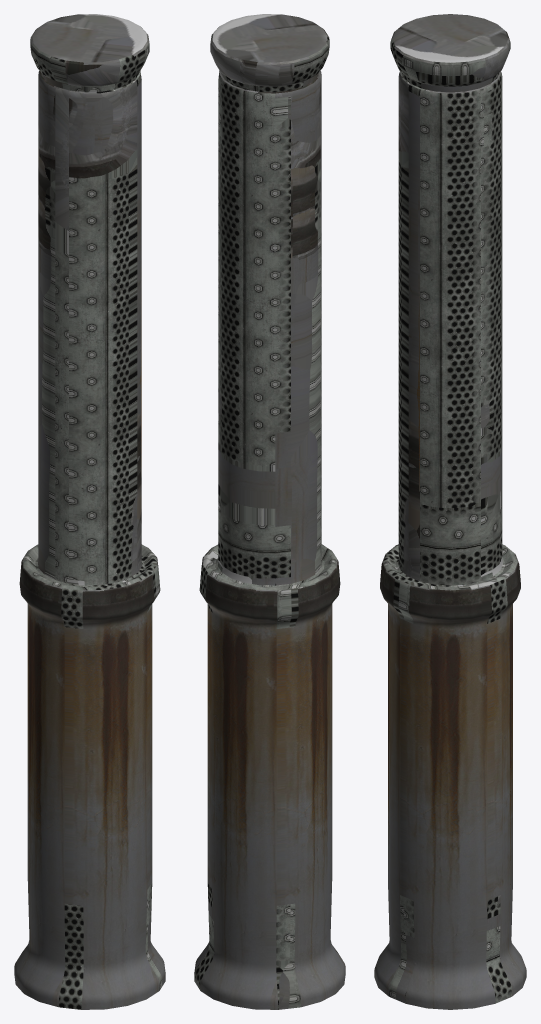
Rendered from core-pillar.glb.
3 renders of one model, left to right at view 1: azimuth 30°, elevation 25°; view 2: azimuth 150°, elevation 25°; view 3: azimuth 270°, elevation 25°, orthographic.
Parts seen in each view (by area): view 1: Cylinder025__0; view 2: Cylinder025__0; view 3: Cylinder025__0.
Boxes of the visible parts, box(x1,y1,x2,y2) form: Cylinder025__0: box(14, 14, 165, 1009); Cylinder025__0: box(194, 14, 345, 1009); Cylinder025__0: box(374, 14, 526, 1009).
Size of the model in its own units: 44.05 by 300 by 44.05.
1 material, 1 textured.
